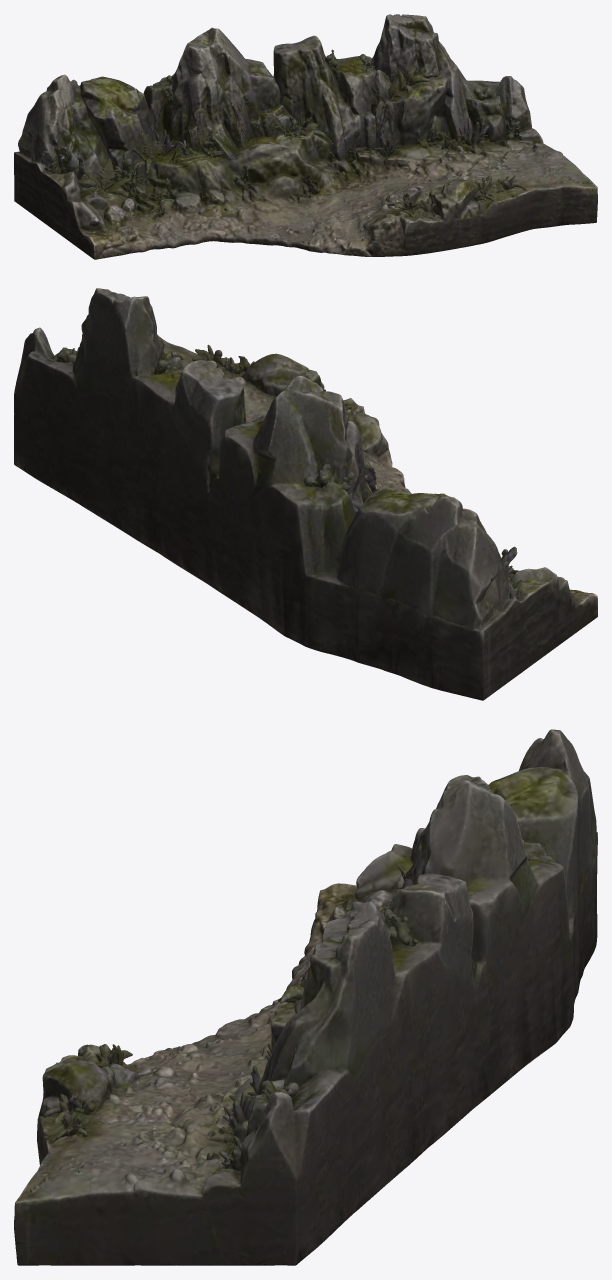
The model's file is Meshy_AI_riverbank_rocky_0823035019_image-to-3d-texture.glb.
3 renders of one model, top to bottom at view 1: azimuth 30°, elevation 25°; view 2: azimuth 150°, elevation 25°; view 3: azimuth 270°, elevation 25°, orthographic. The views are drawn at different scales.
Visible parts, largest first — view 1: mesh_node; view 2: mesh_node; view 3: mesh_node.
Boxes of the visible parts, x1,y1,x2,y2 form: mesh_node: (14,14,597,259); mesh_node: (14,288,597,700); mesh_node: (14,729,597,1265).
Size of the model in its own units: 1.9 by 0.6976 by 1.34.
1 material, 1 textured.
